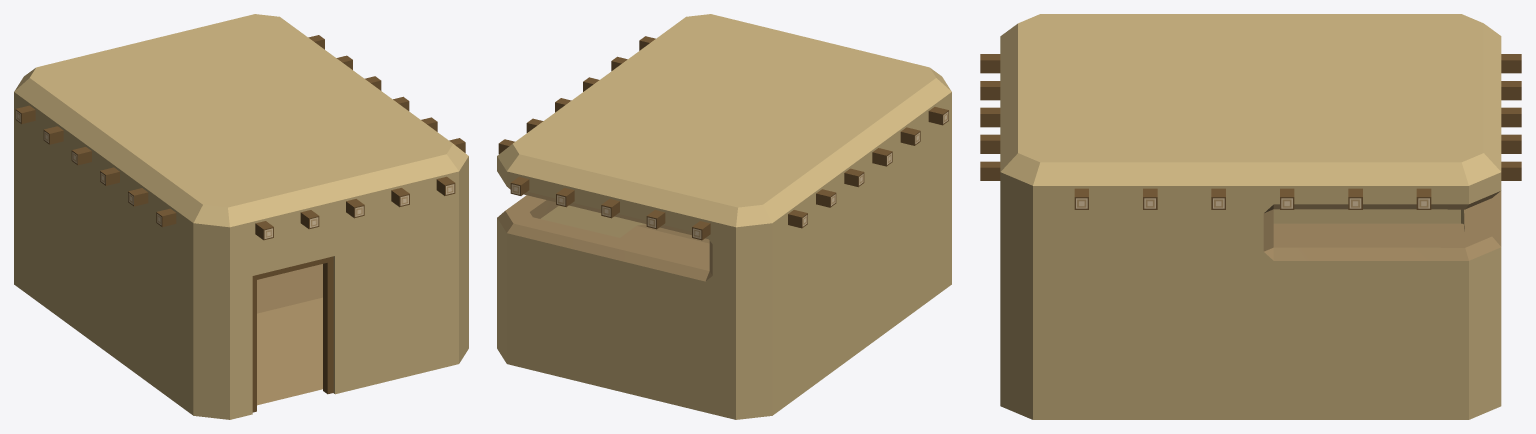
Rendered from Bunker_1.FBX.
The picture shows the model from 3 angles, left to right: view 1: azimuth 30°, elevation 25°; view 2: azimuth 150°, elevation 25°; view 3: azimuth 270°, elevation 25°; orthographic projection. The views are drawn at different scales.
Parts seen in each view (by area): view 1: Bunker_1; view 2: Bunker_1; view 3: Bunker_1.
Part boxes in pixels (left/top/right/bottom): Bunker_1: left=14, top=14, right=468, bottom=419; Bunker_1: left=497, top=14, right=951, bottom=419; Bunker_1: left=980, top=14, right=1521, bottom=419.
Size of the model in its own units: 7.47 by 4.84 by 9.5.
1 material, 1 textured.
